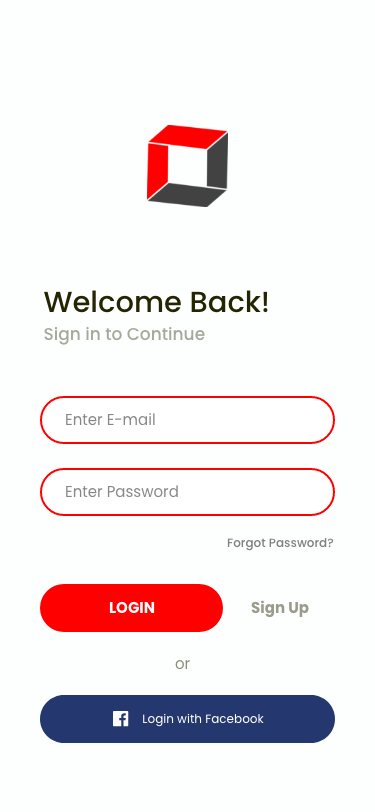EditText: (40, 396, 335, 445), (40, 468, 335, 517)
Image: (147, 125, 229, 208)
Text: (45, 290, 269, 314), (45, 327, 206, 346), (67, 485, 179, 498), (228, 538, 334, 551), (66, 413, 156, 426), (251, 601, 309, 618), (176, 659, 191, 670)
TextButton: (40, 695, 335, 743), (41, 584, 224, 632)
